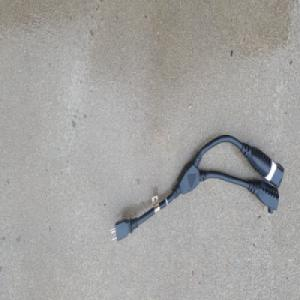Wire: (108, 132, 284, 243)
